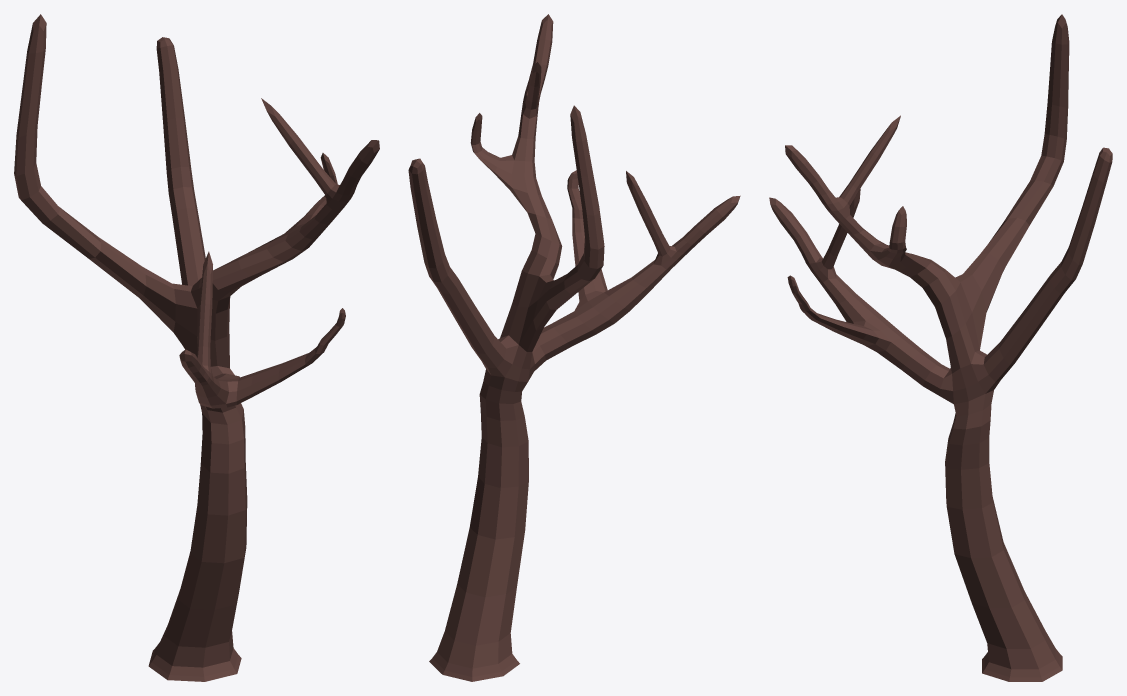
The model's file is CommonTree_Dead_5.gltf.
3 renders of one model, left to right at view 1: azimuth 30°, elevation 25°; view 2: azimuth 150°, elevation 25°; view 3: azimuth 270°, elevation 25°, orthographic. The views are drawn at different scales.
Visible parts, largest first — view 1: CommonTree_Dead_5; view 2: CommonTree_Dead_5; view 3: CommonTree_Dead_5.
Boxes of the visible parts, x1,y1,x2,y2 form: CommonTree_Dead_5: [14, 14, 379, 681]; CommonTree_Dead_5: [408, 14, 740, 681]; CommonTree_Dead_5: [769, 14, 1112, 681].
Bounding box in the file's own units: 0.8443 × 2.3 × 1.2.
